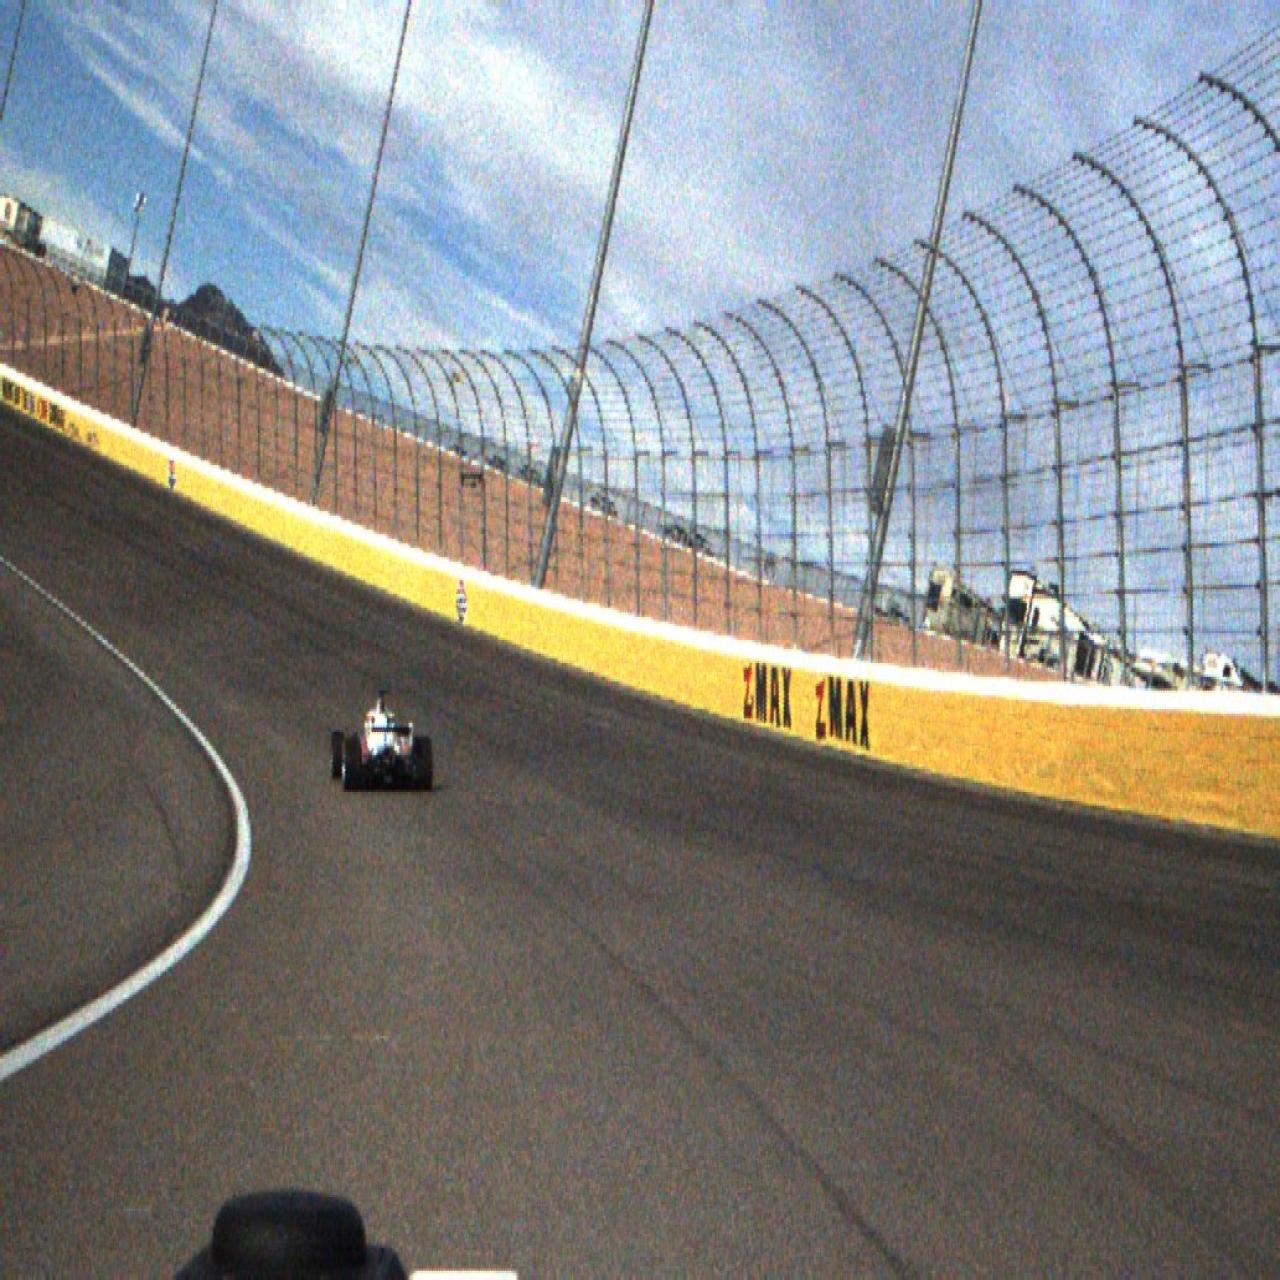AV: (329, 690, 434, 794)
Wheel: (414, 736, 433, 793), (343, 738, 362, 793), (330, 731, 346, 780)
